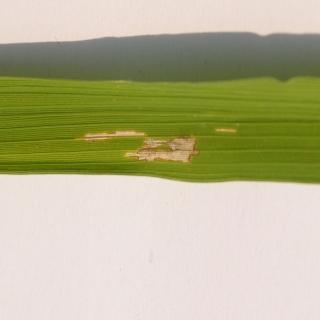Hawar-Daun: (70, 124, 200, 170), (212, 120, 240, 142)
